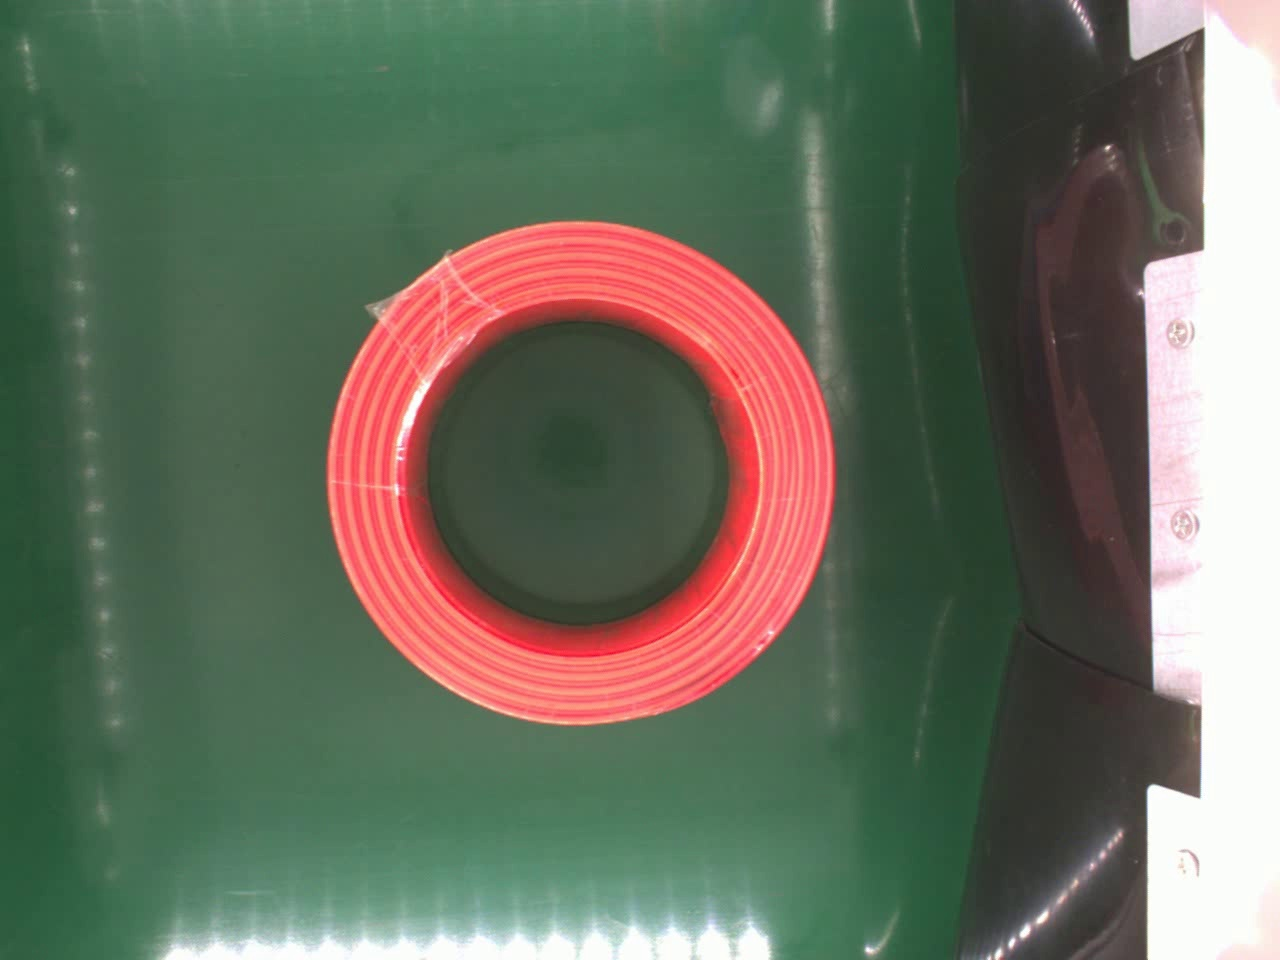red: (312, 209, 833, 728)
